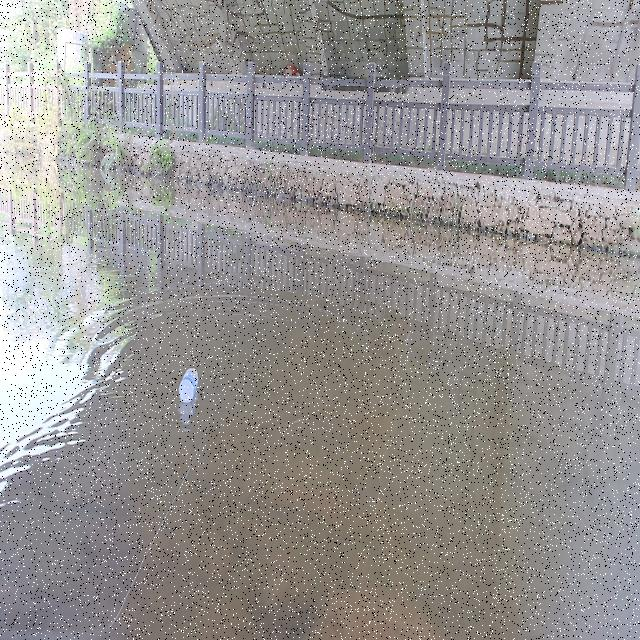Bottle: (177, 357, 199, 403)
